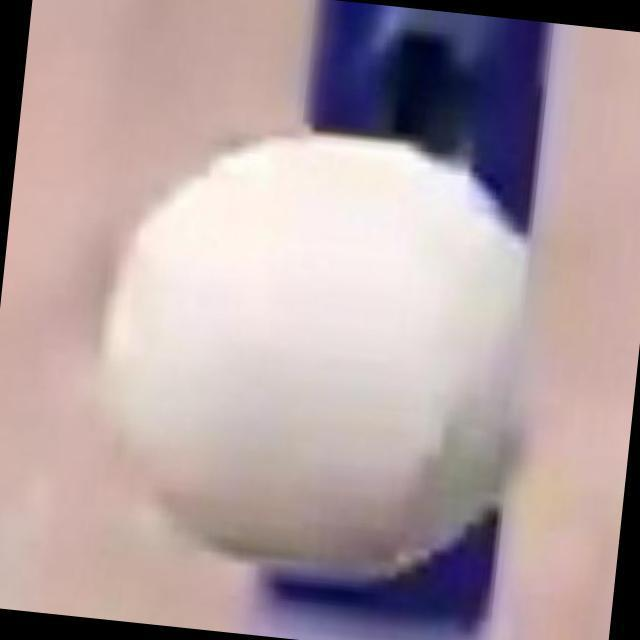-: (79, 104, 574, 581)
